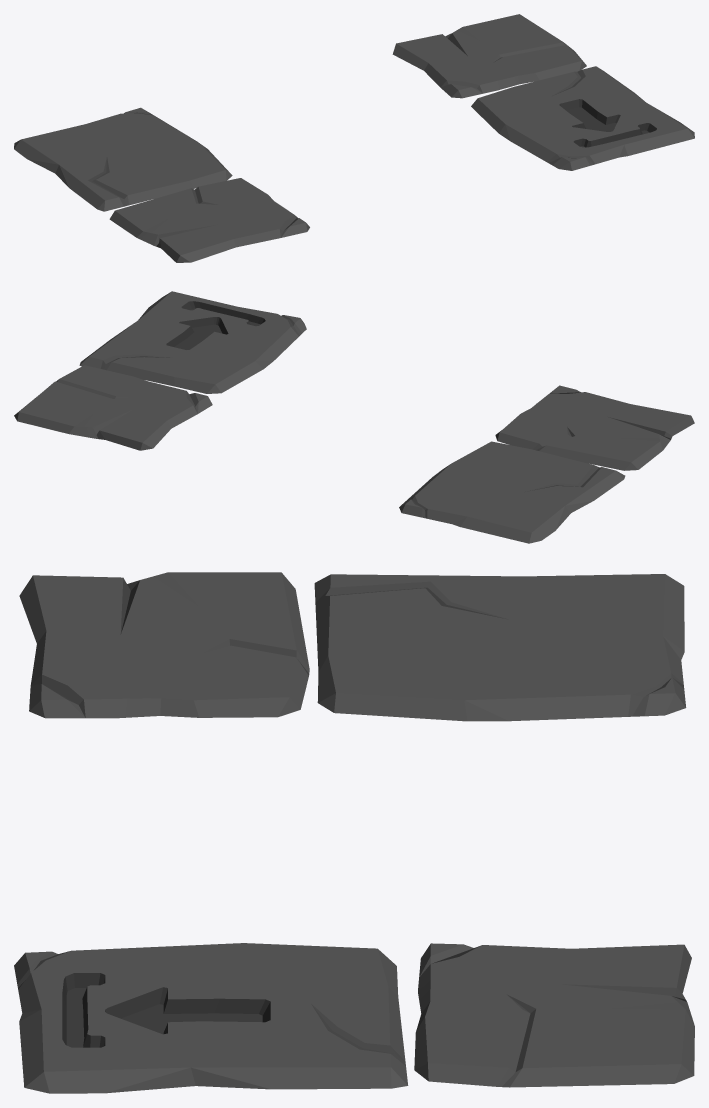
The model's file is stone_slabs.fbx.
The picture shows the model from 3 angles, top to bottom: view 1: azimuth 30°, elevation 25°; view 2: azimuth 150°, elevation 25°; view 3: azimuth 270°, elevation 25°; orthographic projection. The views are drawn at different scales.
Visible parts, largest first — view 1: stone_slabs; view 2: stone_slabs; view 3: stone_slabs.
Part boxes in pixels (x1=…): stone_slabs: x1=14, y1=14, x2=694, y2=262; stone_slabs: x1=14, y1=291, x2=694, y2=543; stone_slabs: x1=14, y1=572, x2=694, y2=1093.
Bounding box in the file's own units: 191 × 2.61 × 107.
